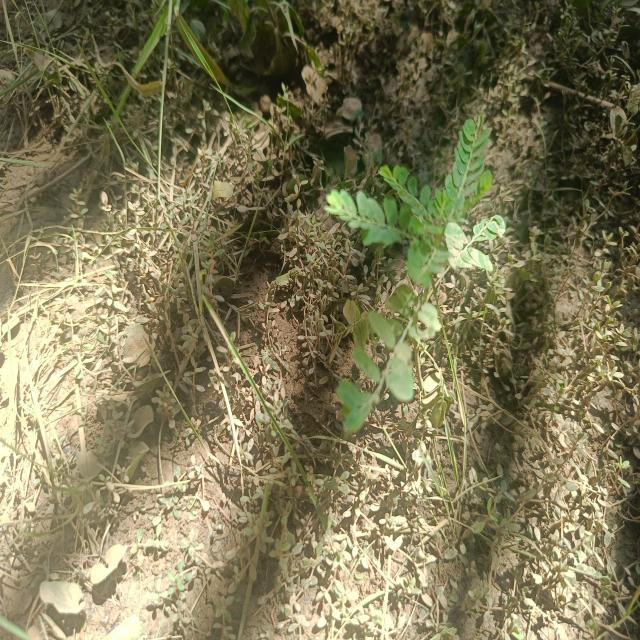weed: (315, 104, 499, 446)
